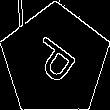P_SE: (26, 31, 84, 91)
